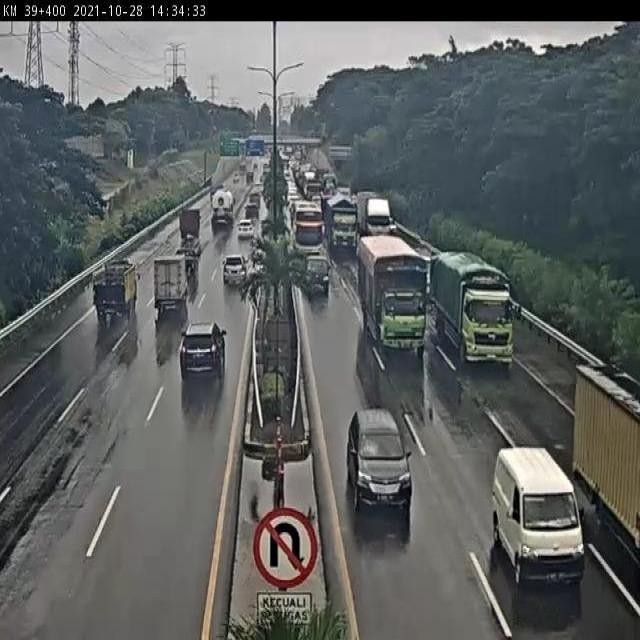big bus: (292, 201, 327, 263)
big truck: (429, 252, 516, 365), (355, 232, 428, 353), (324, 189, 359, 259), (359, 188, 396, 244)
car: (491, 446, 587, 590), (345, 412, 415, 516), (176, 323, 230, 380), (301, 252, 333, 295), (222, 253, 247, 290), (177, 239, 200, 277), (238, 217, 258, 244)
small truck: (567, 364, 640, 555), (93, 258, 141, 326), (151, 256, 186, 312), (175, 208, 202, 245)
